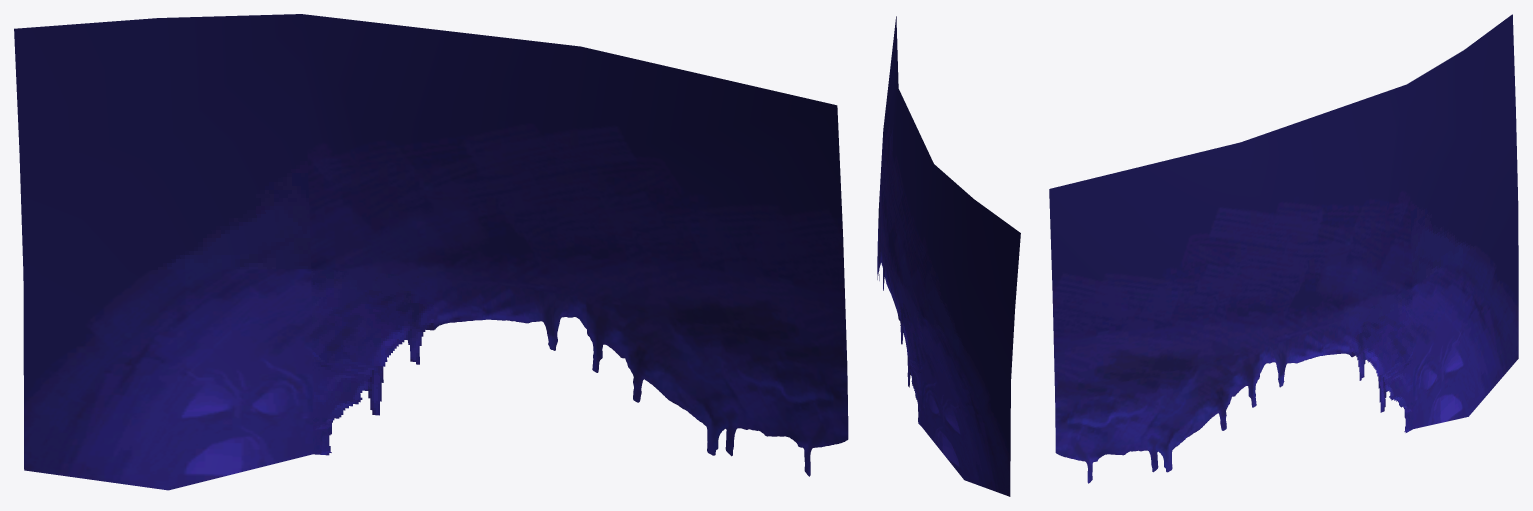
The model's file is SWORDLIGHT20_PS-AREA05-RANGE03_04.fbx.
3 renders of one model, left to right at view 1: azimuth 30°, elevation 25°; view 2: azimuth 150°, elevation 25°; view 3: azimuth 270°, elevation 25°, orthographic. The views are drawn at different scales.
Parts seen in each view (by area): view 1: SWORDLIGHT20_PS-AREA05-RANGE03_04; view 2: SWORDLIGHT20_PS-AREA05-RANGE03_04; view 3: SWORDLIGHT20_PS-AREA05-RANGE03_04.
Boxes of the visible parts, box(x1,y1,x2,y2) form: SWORDLIGHT20_PS-AREA05-RANGE03_04: box(14, 14, 848, 490); SWORDLIGHT20_PS-AREA05-RANGE03_04: box(877, 16, 1020, 496); SWORDLIGHT20_PS-AREA05-RANGE03_04: box(1049, 14, 1518, 483).
Size of the model in its own units: 360484 by 317880 by 363039.
7 materials, 7 textured.
